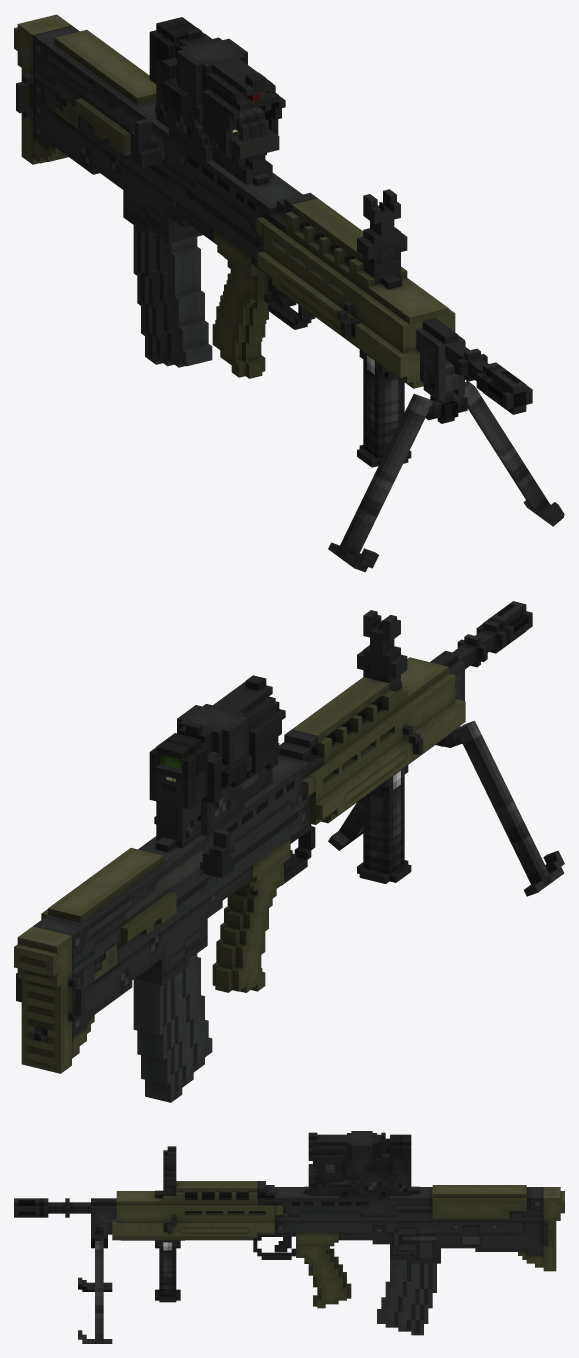
3 renders of one model, top to bottom at view 1: azimuth 30°, elevation 25°; view 2: azimuth 150°, elevation 25°; view 3: azimuth 270°, elevation 25°, orthographic. The views are drawn at different scales.
Parts seen in each view (by area): view 1: L85, L85_CLIP, SCOPE_SUSAT, DIPOD1_LEG1, L85_SCOPE1, SCOPE_ACOG, GRIP1, DIPOD1_LEG2, DIPOD1_BODY, SCOPE_EOTECH, DIPOD1_BODY2, L85_BOLT; view 2: L85, L85_CLIP, SCOPE_SUSAT, L85_SCOPE1, DIPOD1_LEG1, GRIP1, SCOPE_ACOG, SCOPE_EOTECH, L85_BOLT, DIPOD1_LEG2, DIPOD1_BODY; view 3: L85, SCOPE_SUSAT, L85_CLIP, SCOPE_ACOG, GRIP1, L85_SCOPE1, DIPOD1_LEG2, DIPOD1_BODY, SCOPE_EOTECH, DIPOD1_LEG1.
Boxes of the visible parts, box(x1,y1,x2,y2) form: L85: box(14, 14, 532, 414); L85_CLIP: box(133, 225, 212, 367); SCOPE_SUSAT: box(149, 17, 279, 162); DIPOD1_LEG1: box(328, 393, 434, 572); L85_SCOPE1: box(156, 58, 407, 264); SCOPE_ACOG: box(149, 57, 285, 184); GRIP1: box(357, 350, 411, 467); DIPOD1_LEG2: box(454, 381, 564, 526); DIPOD1_BODY: box(416, 318, 464, 400); SCOPE_EOTECH: box(168, 107, 231, 161); DIPOD1_BODY2: box(425, 364, 467, 423); L85_BOLT: box(131, 118, 164, 167); L85: box(14, 601, 532, 1073); L85_CLIP: box(133, 954, 212, 1102); SCOPE_SUSAT: box(149, 675, 279, 824); L85_SCOPE1: box(156, 610, 407, 848); DIPOD1_LEG1: box(447, 720, 564, 896); GRIP1: box(357, 765, 411, 883); SCOPE_ACOG: box(149, 701, 285, 809); SCOPE_EOTECH: box(197, 773, 257, 836); L85_BOLT: box(200, 829, 233, 878); DIPOD1_LEG2: box(328, 798, 363, 850); DIPOD1_BODY: box(430, 651, 464, 700); L85: box(14, 1181, 564, 1308); SCOPE_SUSAT: box(308, 1131, 411, 1199); L85_CLIP: box(377, 1260, 436, 1335); SCOPE_ACOG: box(308, 1145, 411, 1195); GRIP1: box(121, 1240, 184, 1302); L85_SCOPE1: box(163, 1146, 411, 1195); DIPOD1_LEG2: box(78, 1241, 112, 1343); DIPOD1_BODY: box(91, 1198, 116, 1238); SCOPE_EOTECH: box(325, 1174, 389, 1197); DIPOD1_LEG1: box(78, 1277, 112, 1291).
Bounding box in the file's own units: 0.3168 × 0.5019 × 1.27.
Materials: 8 (8 with a texture image).
